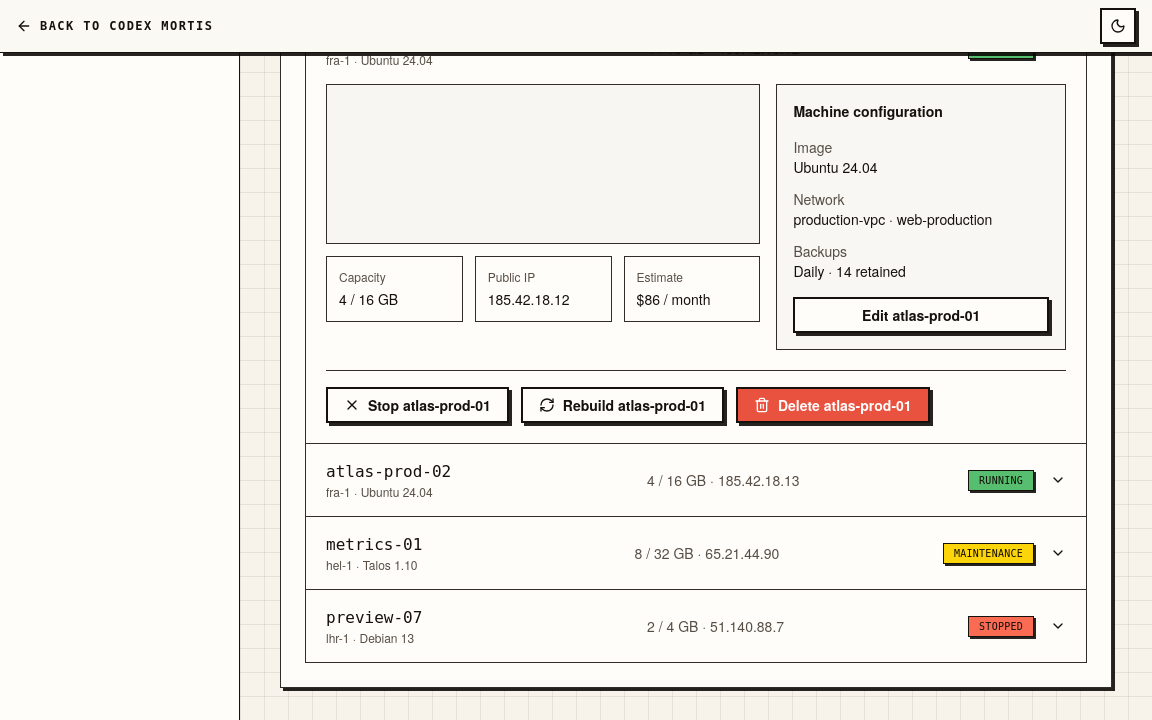
Test case: Codex Mortis showcase › renders detailed virtual machine configuration
(page scrolled)
Expected: the heading "Machine configuration" is shown, [793,101,943,121]
Expected: the button "Delete atlas-prod-01" is shown, [736,387,930,423]
Step 1. Click the button named "atlas-prod-02fra-1" → coordinates (696, 480), box [306,444,1086,516]
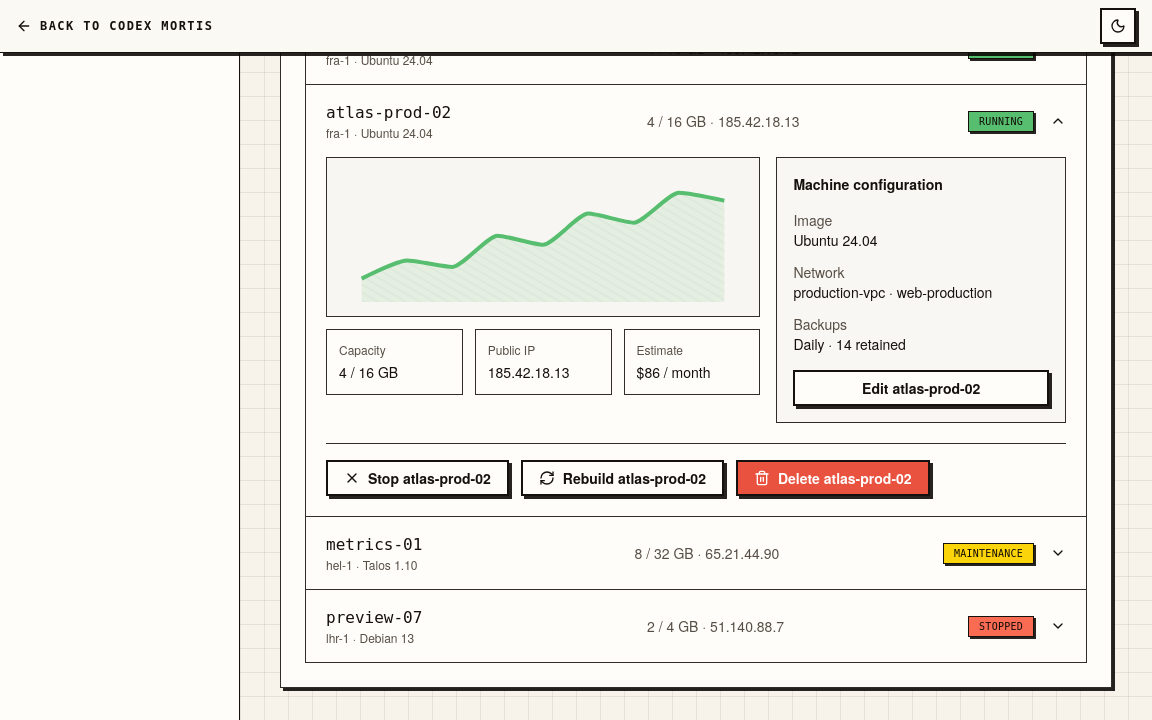
Now the button named "atlas-prod-02fra-1" is expanded, box [306,85,1086,157]
Now the button "Stop atlas-prod-02" is shown, box [326,460,509,496]
